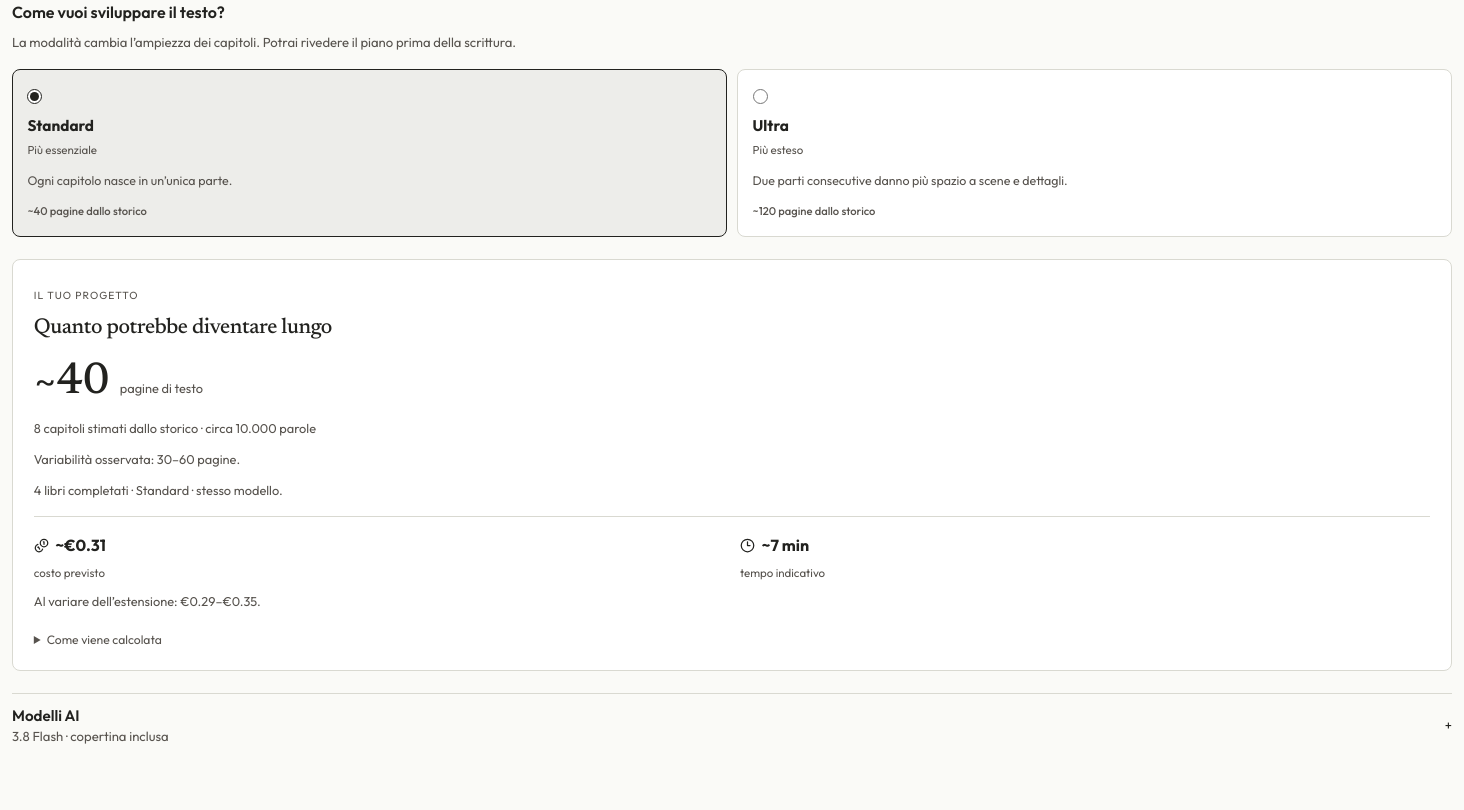
creation settings › keeps the forecast visible while models are collapsed, and updates it by mode
The width and height of the screenshot is (1464, 810).
Expected: the text "~40" is shown, x1=34 y1=358 x2=109 y2=408
Click the radio button labelled "Ultra": [760, 96] box x1=753 y1=89 x2=768 y2=104
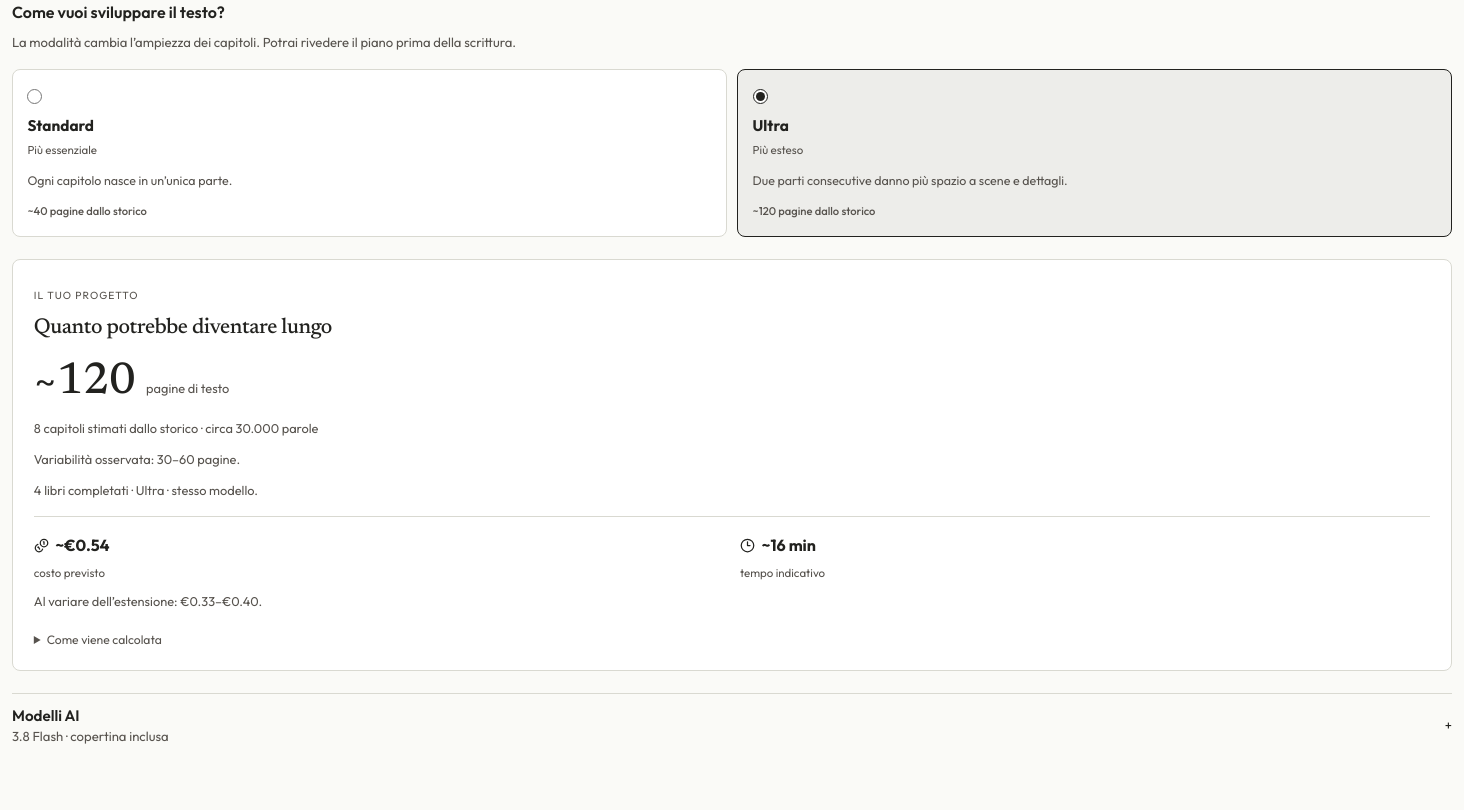
Result: the text "~120" is shown at x1=34 y1=358 x2=136 y2=408
Click the button "Modelli AI 3.8 Flash · copertina inclusa +": [46, 716] box x1=12 y1=694 x2=1452 y2=756
(page scrolled)
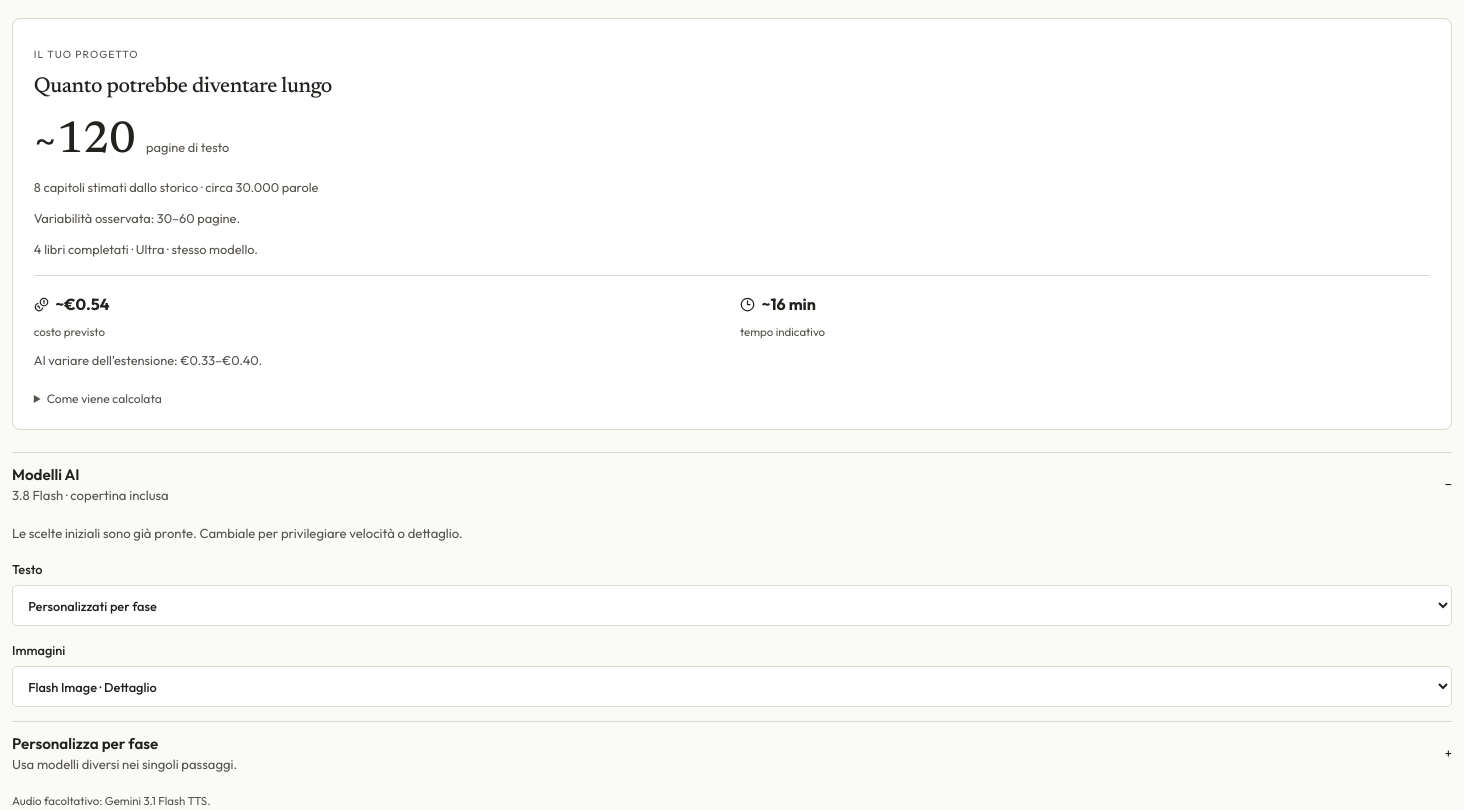
Result: the dropdown named "Modello per tutto il testo" is shown at x1=12 y1=585 x2=1452 y2=626
